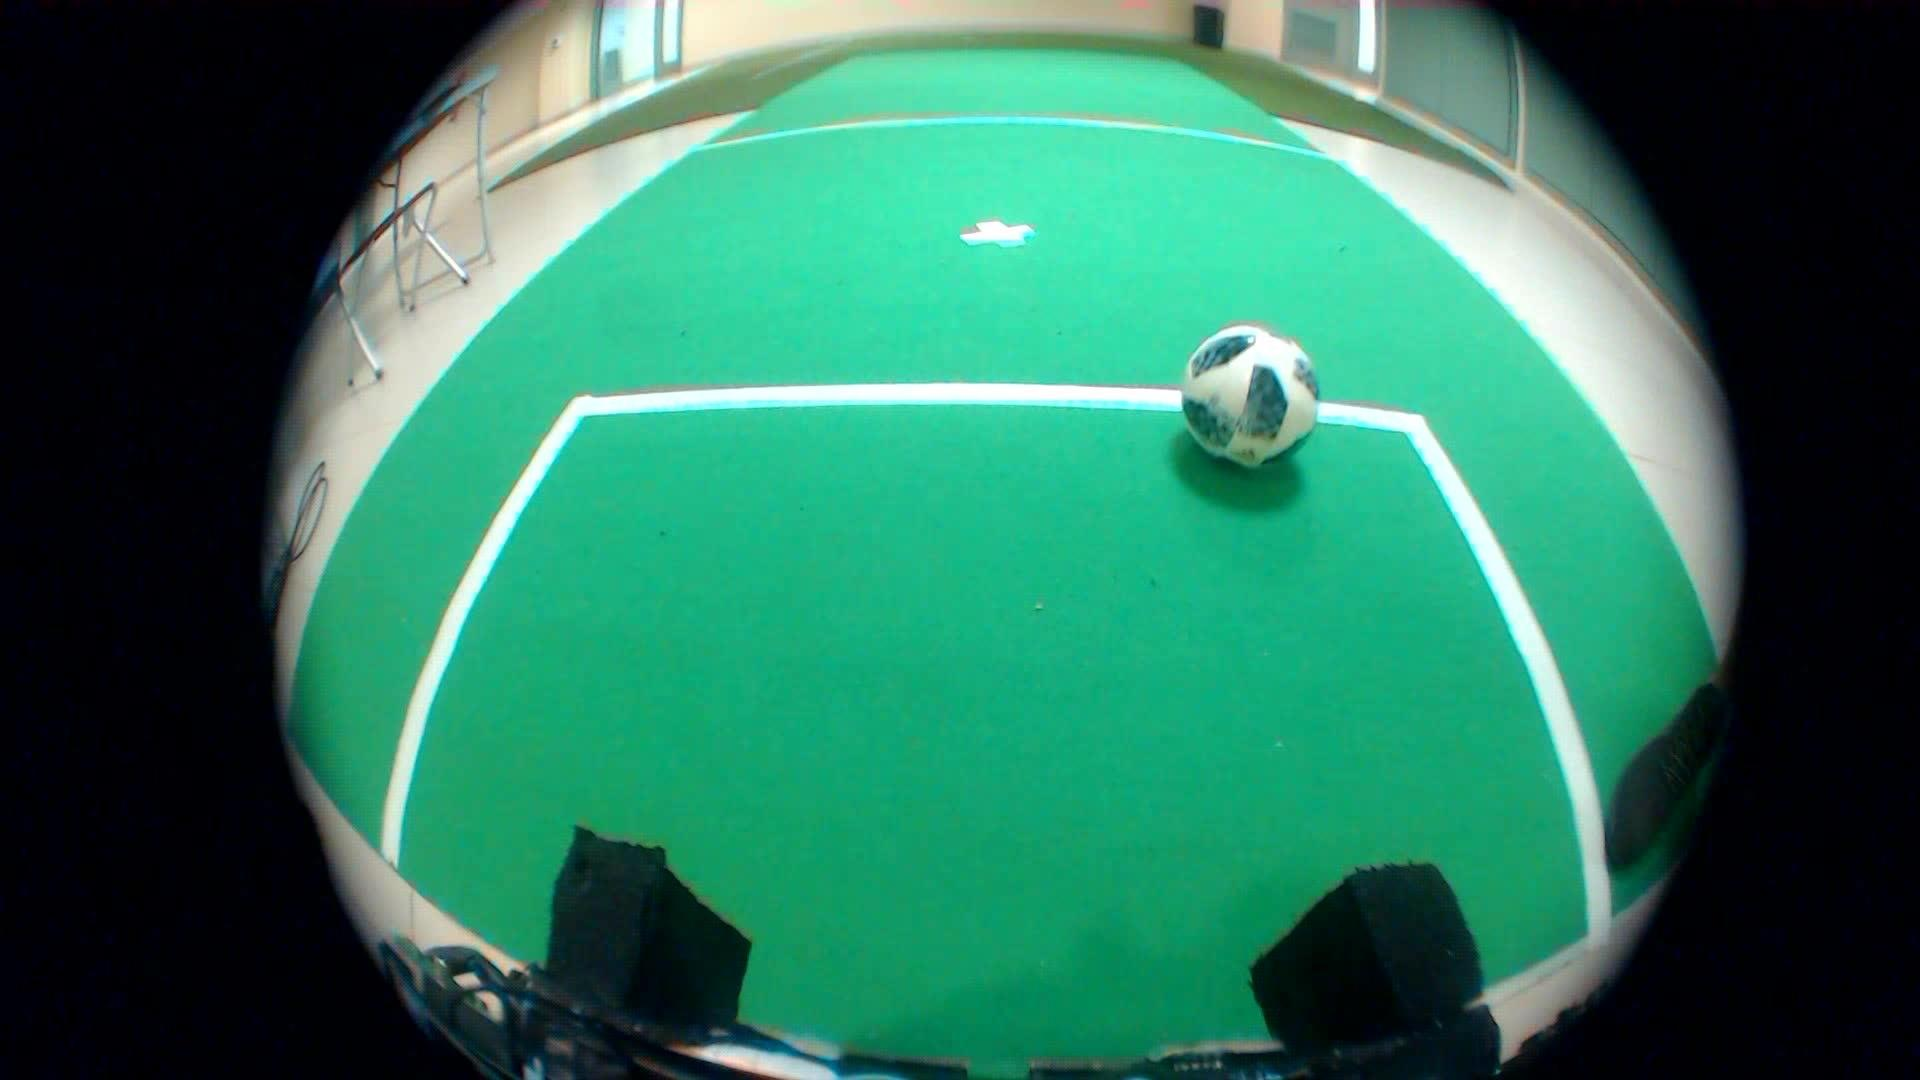ball: (1143, 307, 1344, 469)
